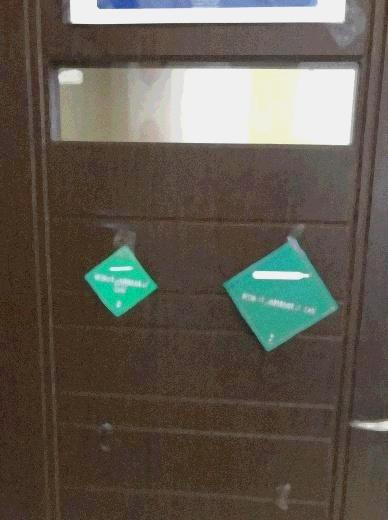non-flammable-gas: (219, 241, 340, 352), (80, 243, 159, 318)
